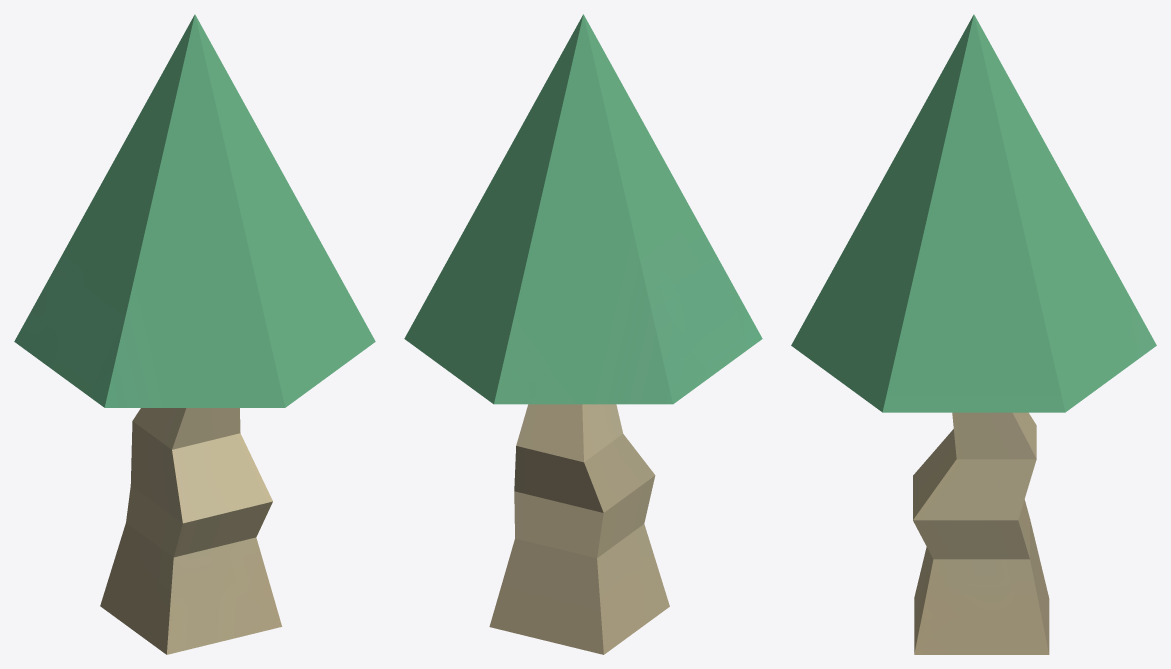
The model's file is LowAgac3.fbx.
The picture shows the model from 3 angles, left to right: view 1: azimuth 30°, elevation 25°; view 2: azimuth 150°, elevation 25°; view 3: azimuth 270°, elevation 25°; orthographic projection. The views are drawn at different scales.
Parts seen in each view (by area): view 1: Cube; view 2: Cube; view 3: Cube.
Boxes of the visible parts, <box> form: Cube: <box>14,14,375,654</box>; Cube: <box>404,14,762,654</box>; Cube: <box>791,14,1156,654</box>.
Size of the model in its own units: 173 by 369 by 200.
